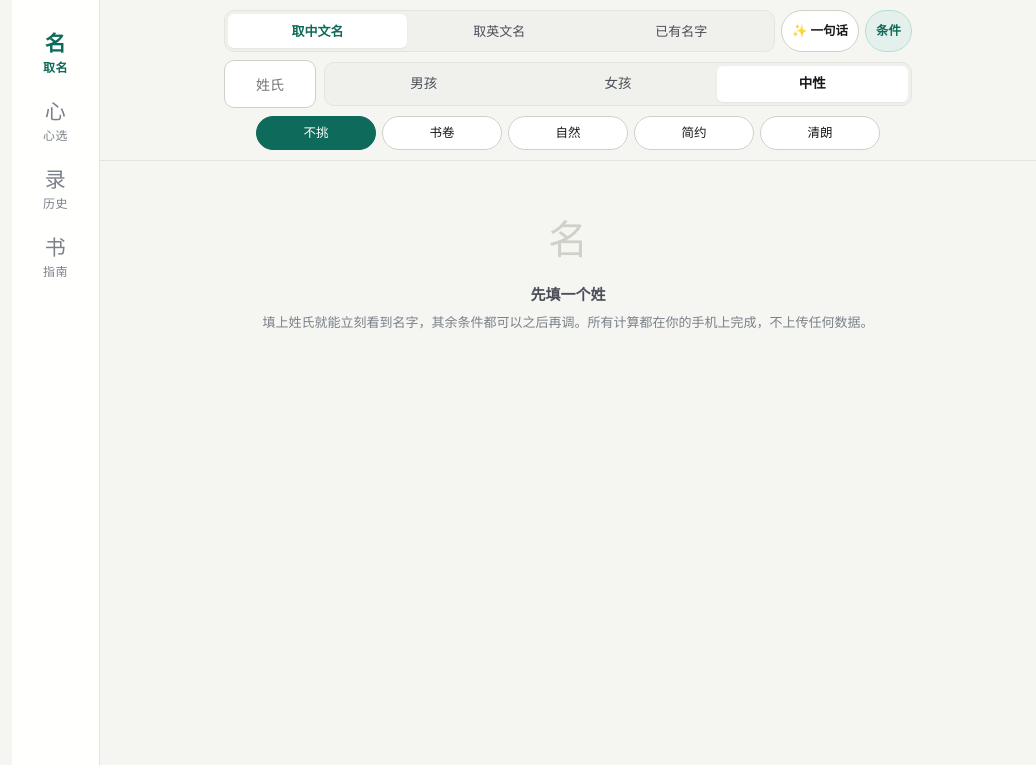
Scenario: 主流程 › 用中文输入法能打出姓氏（拼音在组字过程中不能被抹掉）
Type "c" into the field named "宝宝的姓氏". click: (270, 84)
box: [224,60,316,108]
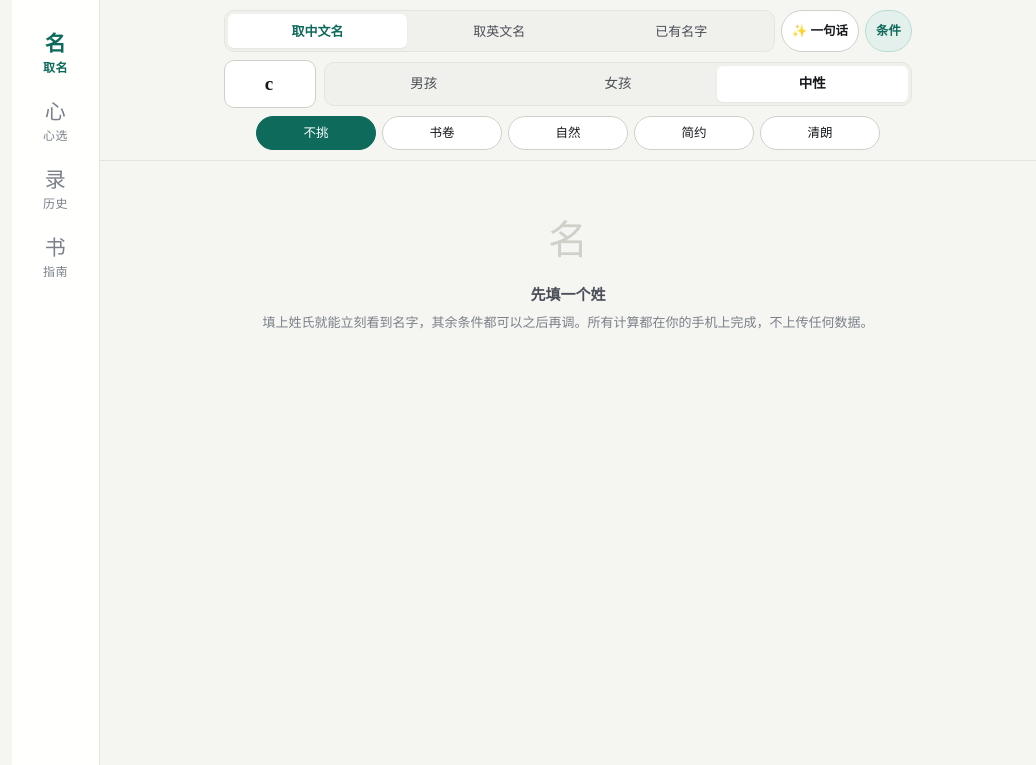
Replace the text in the field named "宝宝的姓氏" with "ch". click: (270, 84)
box: [224,60,316,108]
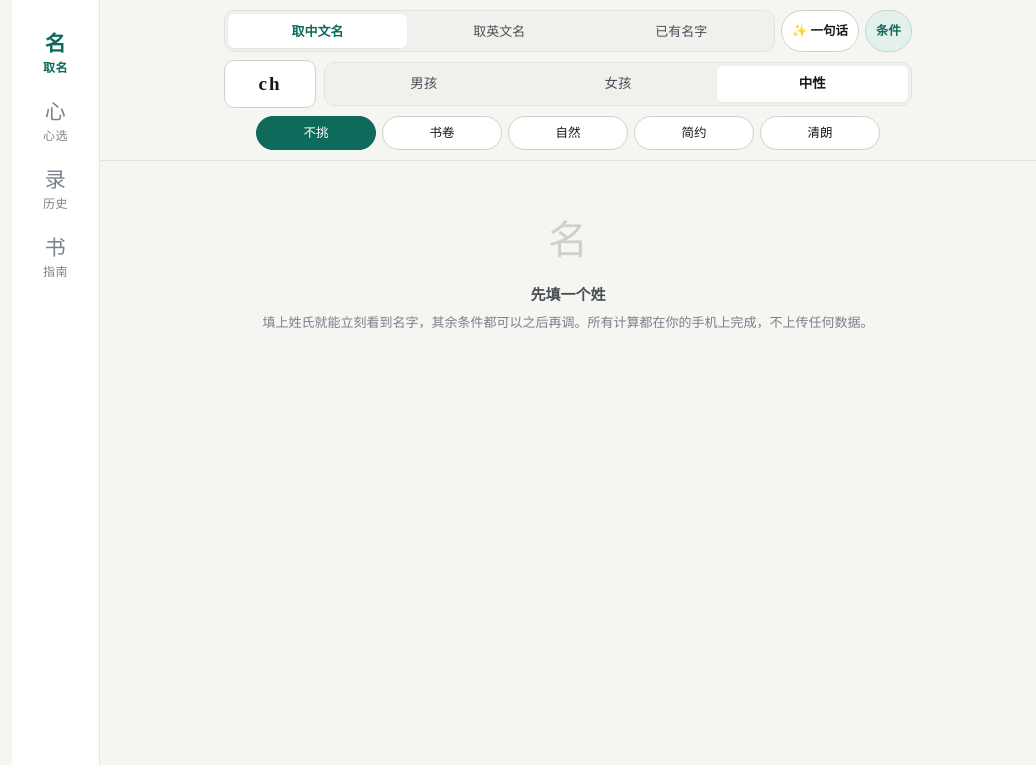
Replace the text in the field named "宝宝的姓氏" with "che". click: (270, 84)
box: [224,60,316,108]
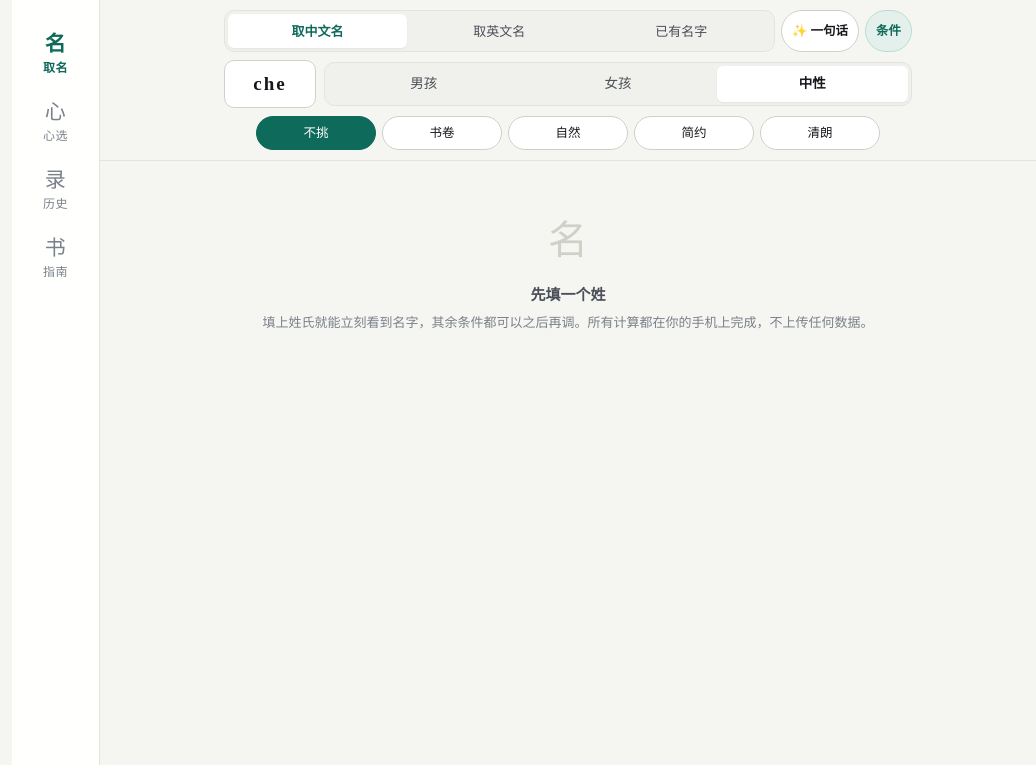
Replace the text in the field named "宝宝的姓氏" with "chen". click: (270, 84)
box: [224,60,316,108]
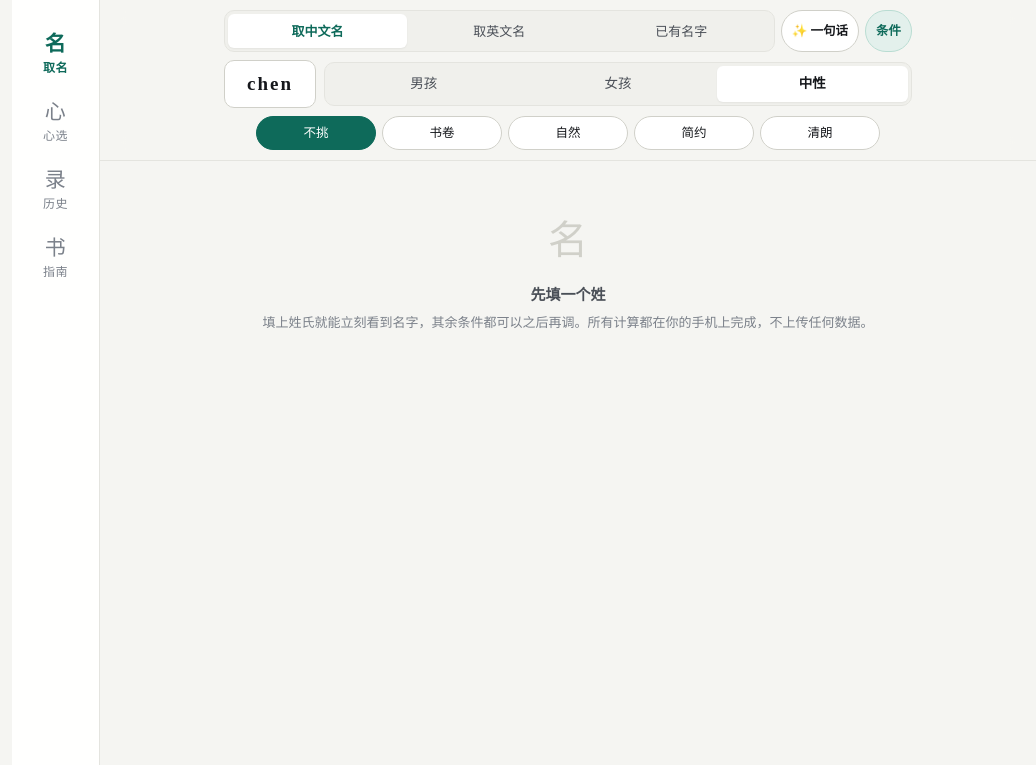
Replace the text in the field named "宝宝的姓氏" with "陈". click: (270, 84)
box: [224,60,316,108]
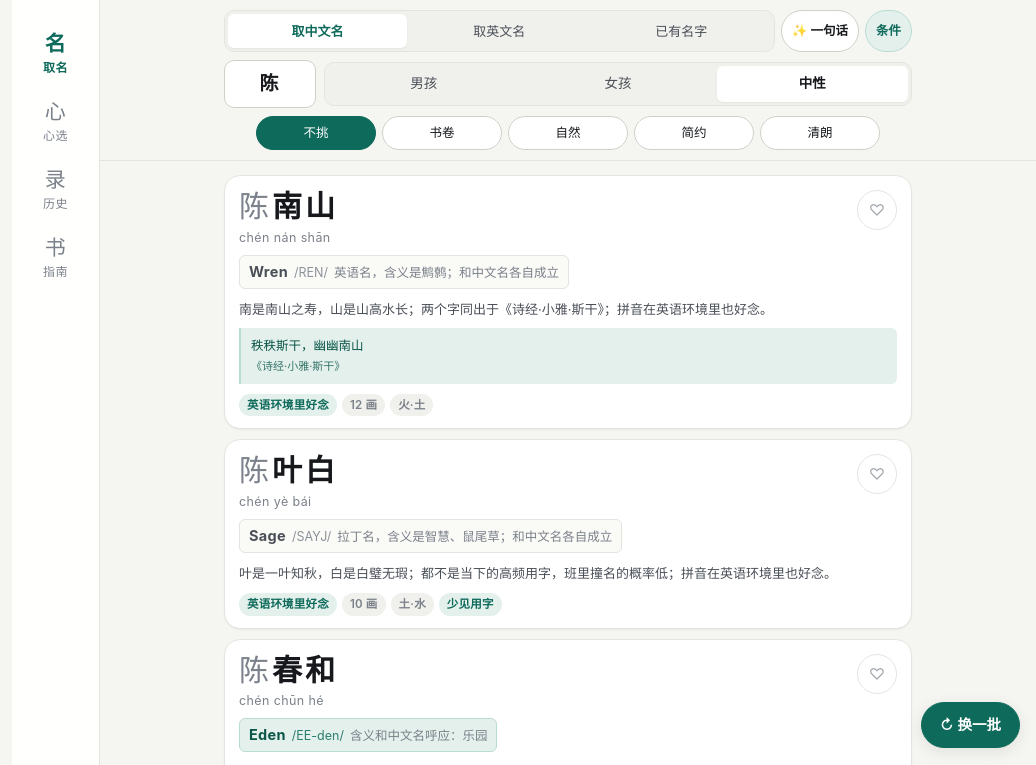
Result: the button with aria-label "点开看详细解释" shows "陈" at [224,175,912,429]
